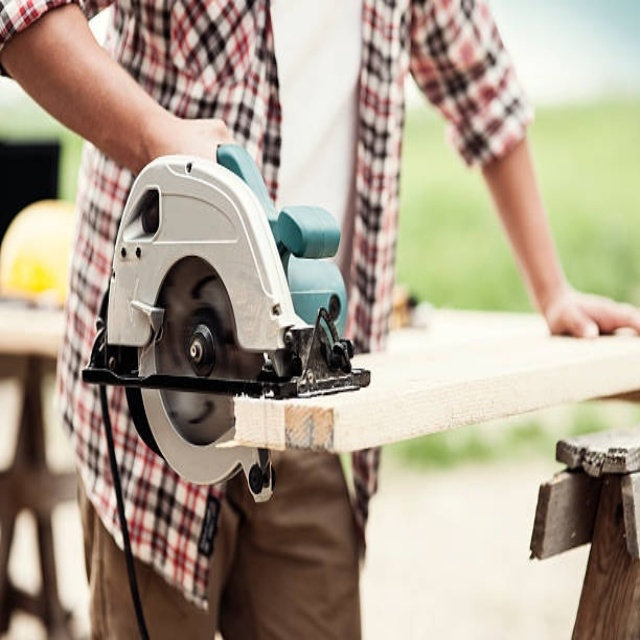Sin_guantes: (542, 284, 630, 341), (164, 115, 239, 168)
